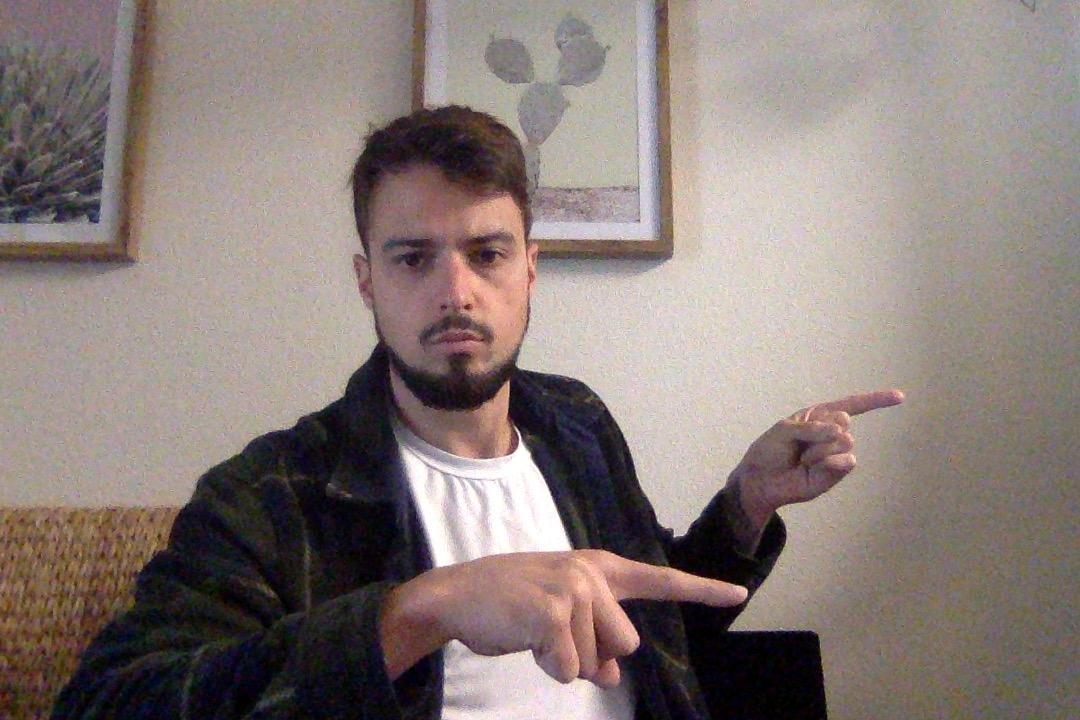Point-Right: (423, 533, 746, 704), (740, 377, 905, 514)
